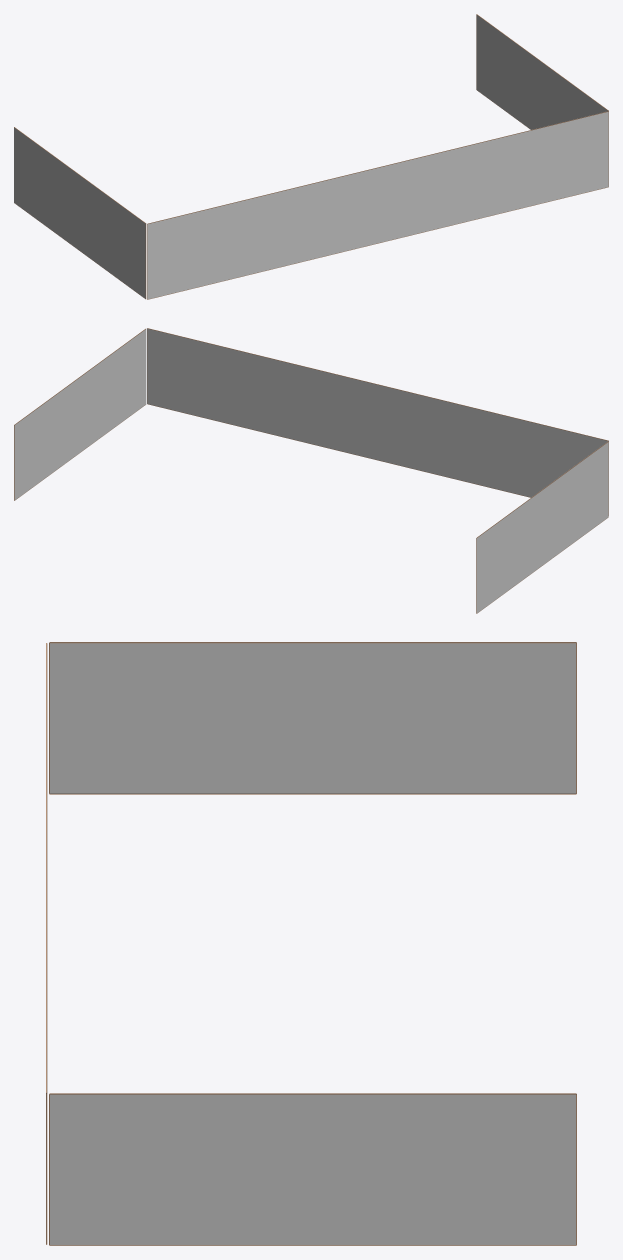
The model's file is fence_V3.FBX.
3 renders of one model, top to bottom at view 1: azimuth 30°, elevation 25°; view 2: azimuth 150°, elevation 25°; view 3: azimuth 270°, elevation 25°, orthographic. The views are drawn at different scales.
Visible parts, largest first — view 1: Plane004, Plane005, Plane008, Plane003; view 2: Plane007, Plane008, Plane005, Plane003; view 3: Plane006, Plane009, Plane003.
Boxes of the visible parts, x1,y1,x2,y2 form: Plane004: (147,112,608,299); Plane005: (14,127,145,298); Plane008: (476,15,607,129); Plane003: (14,14,608,299); Plane007: (147,328,607,497); Plane008: (14,329,146,500); Plane005: (477,442,608,612); Plane003: (14,328,608,613); Plane006: (50,1094,575,1245); Plane009: (50,643,575,793); Plane003: (46,642,576,1245).
Size of the model in its own units: 3098 by 487 by 1539.
